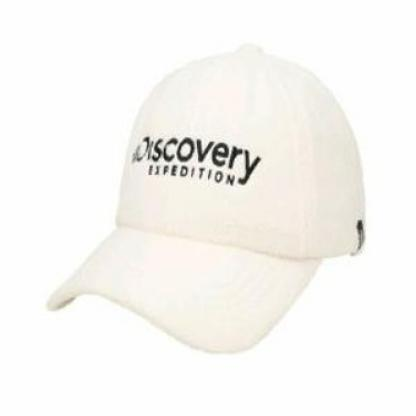cap: (39, 37, 377, 358)
